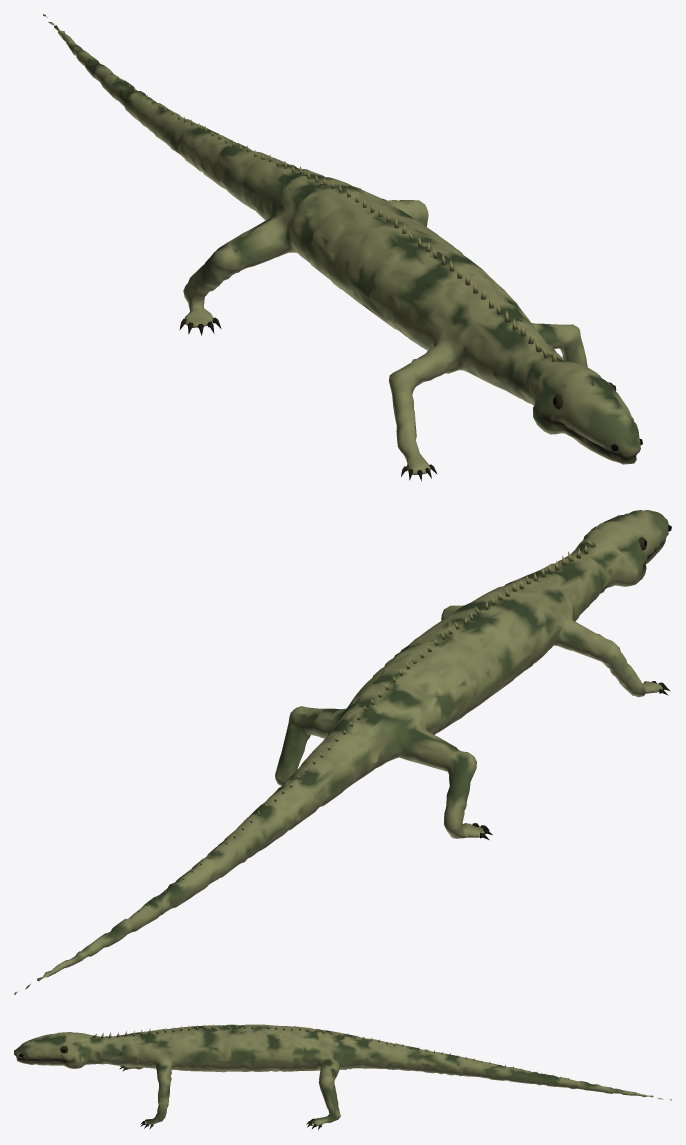
The model's file is Clevosaurus.fbx.
3 views of the same model, one above another, from view 1: azimuth 30°, elevation 25°; view 2: azimuth 150°, elevation 25°; view 3: azimuth 270°, elevation 25° (orthographic). The views are drawn at different scales.
Parts seen in each view (by area): view 1: Clevosaurus; view 2: Clevosaurus; view 3: Clevosaurus.
Part boxes in pixels (bbox=[...]): Clevosaurus: bbox=[43, 14, 642, 481]; Clevosaurus: bbox=[14, 510, 671, 994]; Clevosaurus: bbox=[14, 1024, 671, 1129].
Size of the model in its own units: 0.4572 by 0.258 by 2.
